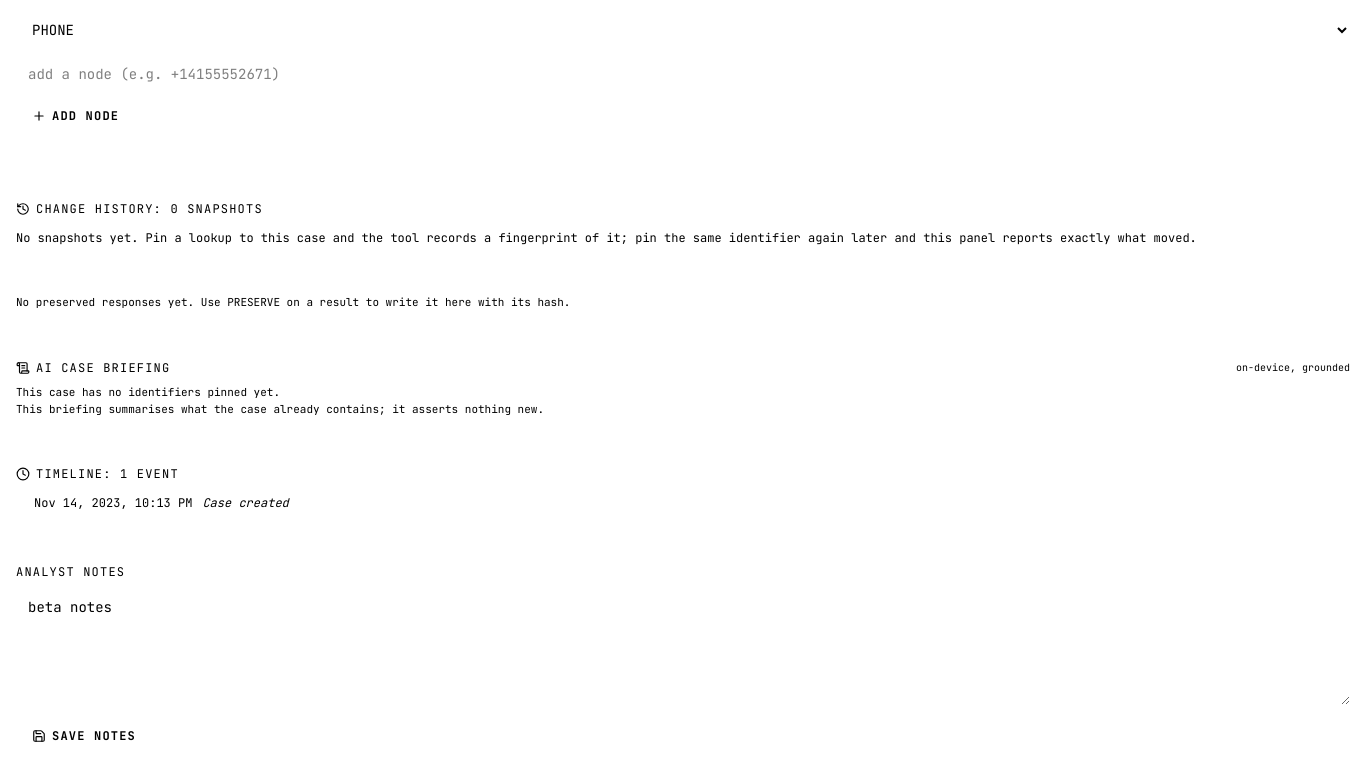
<CasesPanel> entities, notes, graph › resets the notes draft when the active case changes
This screenshot has width=1366, height=768.
(page scrolled)
Replace the text in the text box with placeholder "Timeline, hypotheses, links between entities…" with "unsaved edit" at [683, 647], box [16,589,1350,705]
(page scrolled)
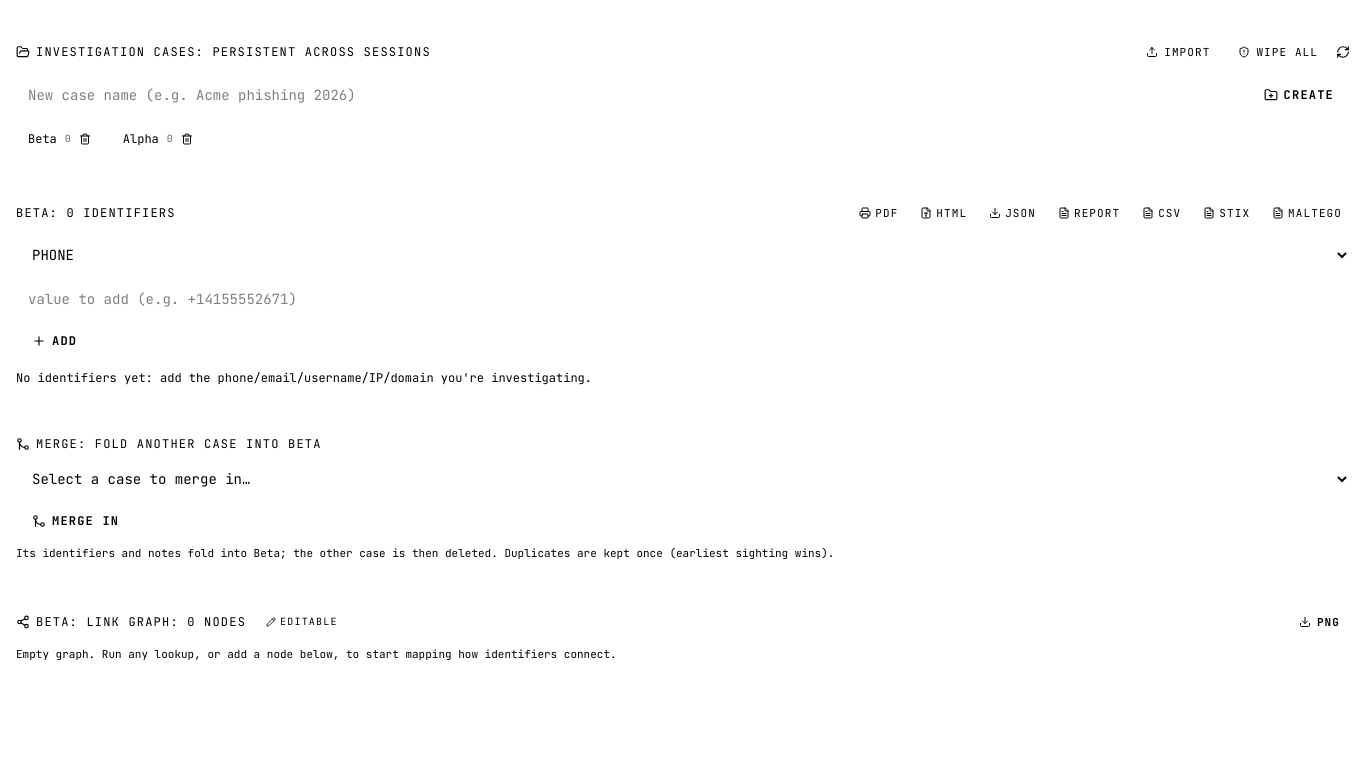
Click the button "Alpha 0".
click(158, 138)  # box [111,124,205,152]
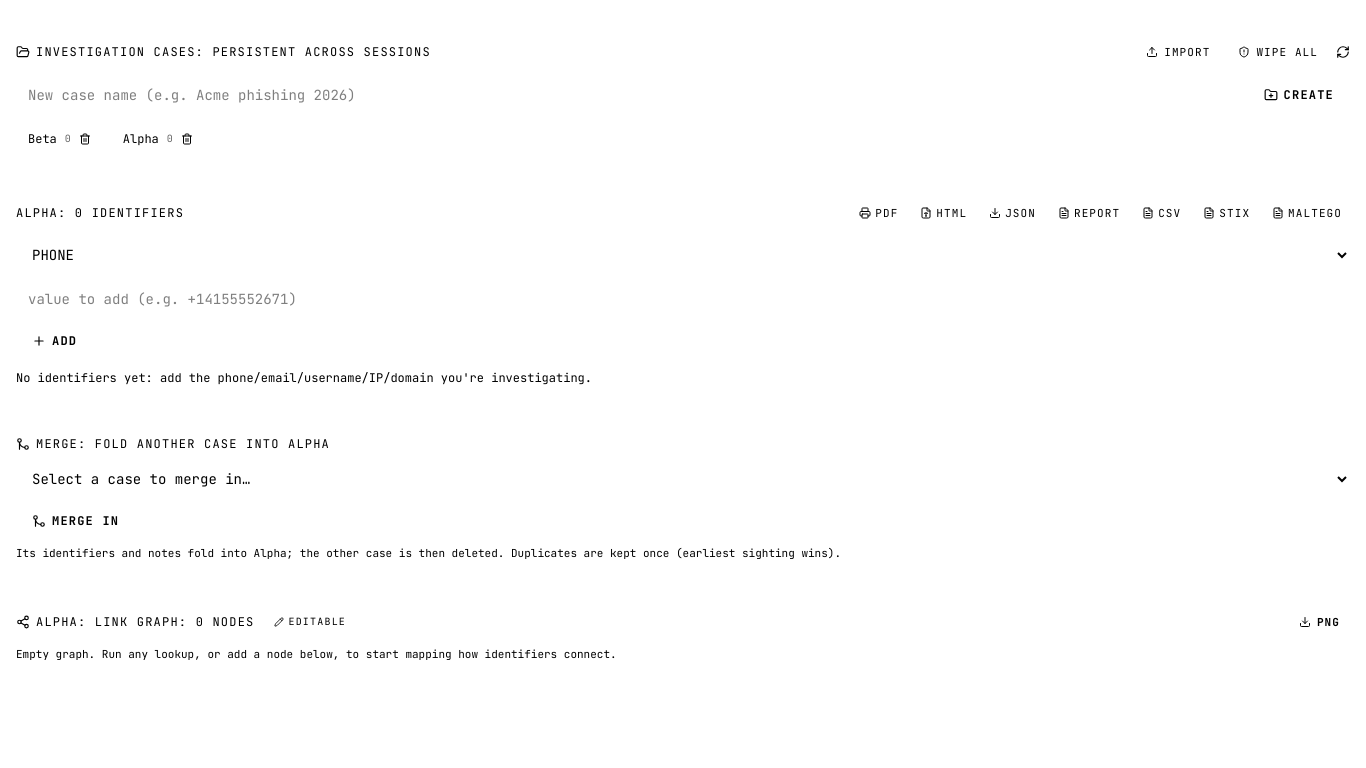
Click the button "Beta 0".
click(59, 138)  # box [16,124,103,152]
(page scrolled)
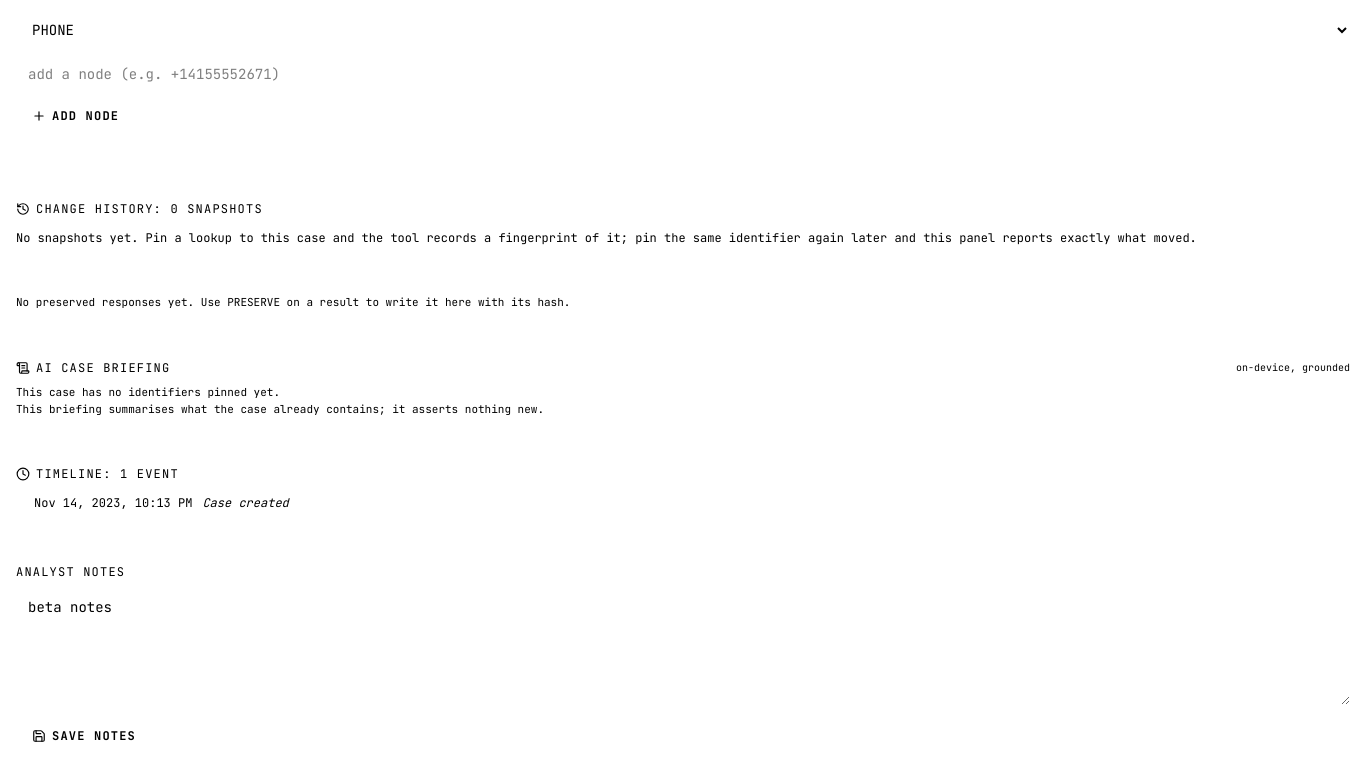
Expected: the text box with placeholder "Timeline, hypotheses, links between entities…" holds "beta notes", [16,589,1350,705]
